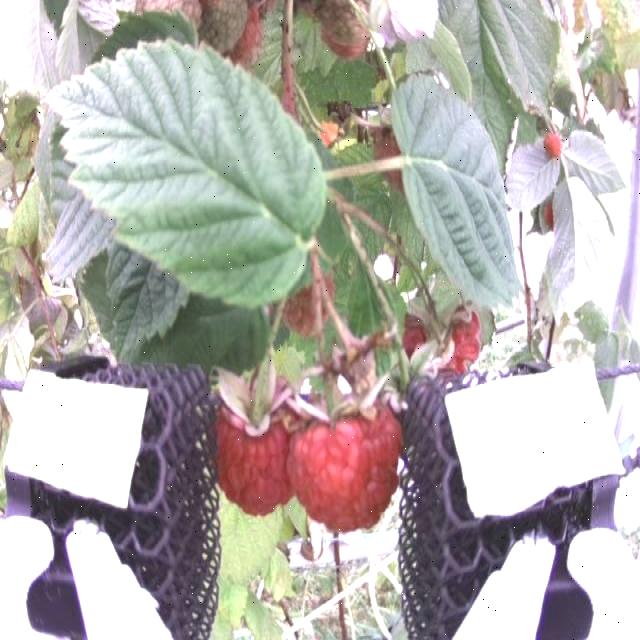Riped berries: (297, 384, 400, 534), (216, 365, 300, 514)
